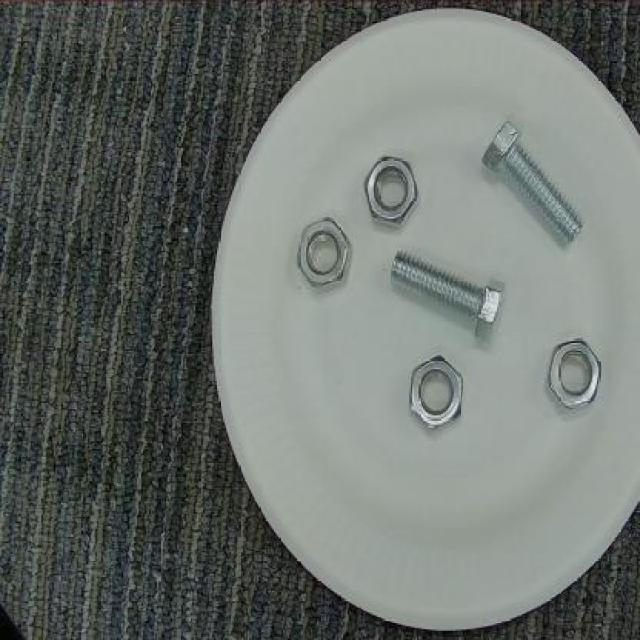Bolt: (479, 116, 585, 244), (387, 248, 505, 348)
Nut: (362, 154, 425, 238), (542, 332, 605, 416), (404, 352, 466, 431), (292, 214, 349, 292)
